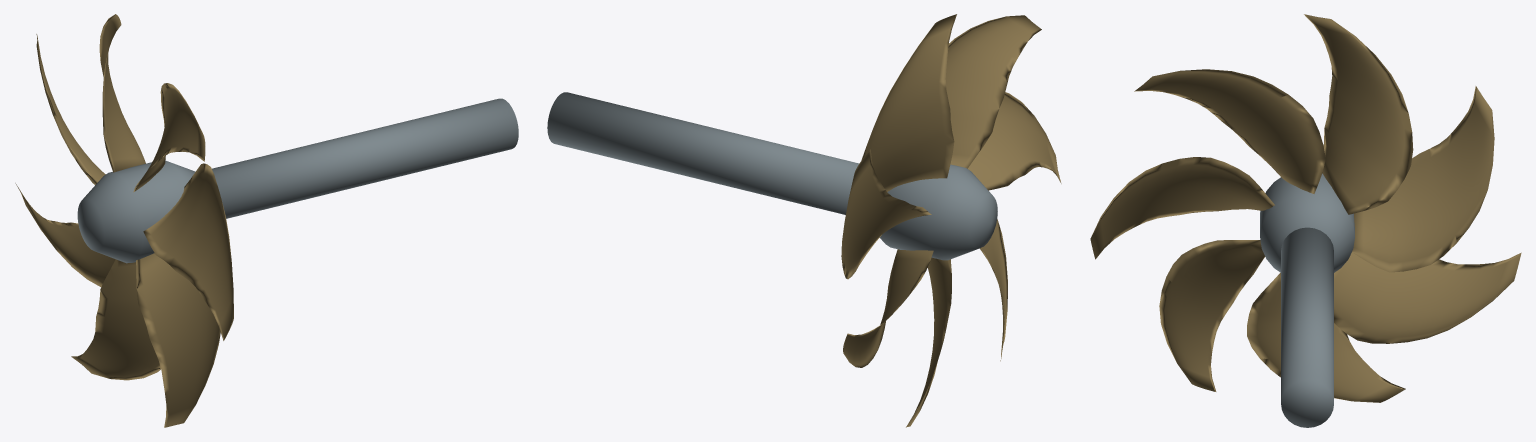
Rendered from PROP_T05_QUIET_COMBINED.fbx.
The picture shows the model from 3 angles, left to right: view 1: azimuth 30°, elevation 25°; view 2: azimuth 150°, elevation 25°; view 3: azimuth 270°, elevation 25°; orthographic projection. The views are drawn at different scales.
Visible parts, largest first — view 1: PROP_T05_QUIET.001; view 2: PROP_T05_QUIET.001; view 3: PROP_T05_QUIET.001.
Part boxes in pixels (x1=…): PROP_T05_QUIET.001: x1=15, y1=14, x2=518, y2=427; PROP_T05_QUIET.001: x1=547, y1=14, x2=1061, y2=427; PROP_T05_QUIET.001: x1=1090, y1=14, x2=1521, y2=427.
Size of the model in its own units: 523 by 455 by 448.
